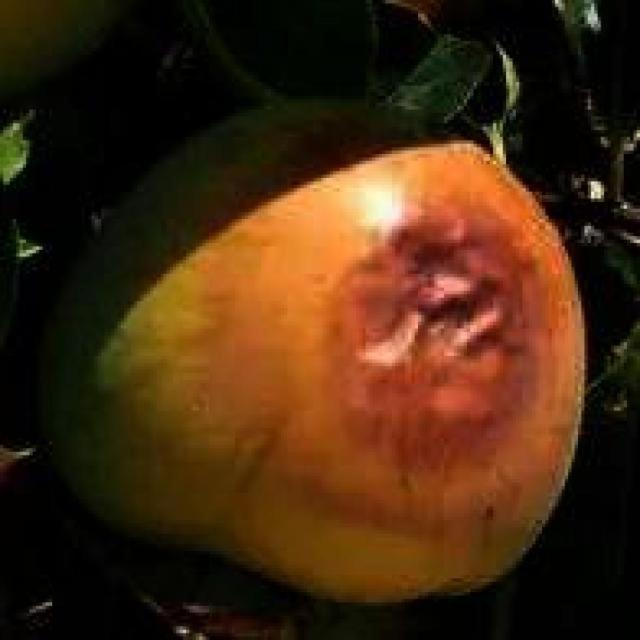Sunscald Fruit: (201, 100, 363, 326)
